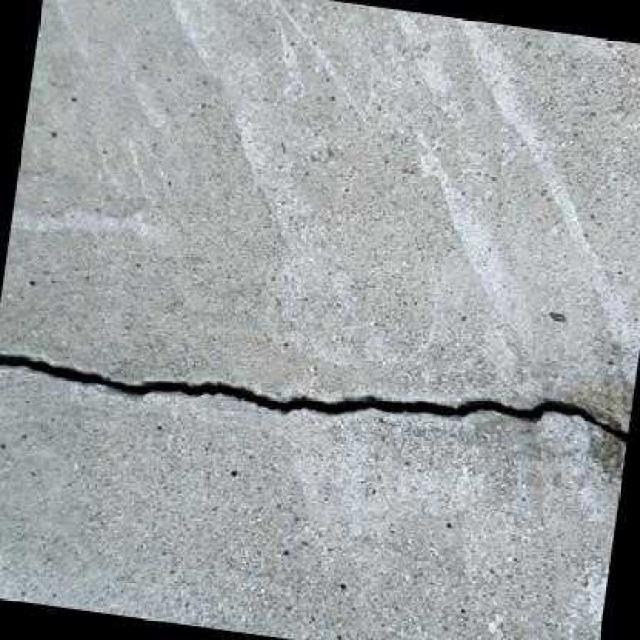D00: (0, 353, 628, 442)
